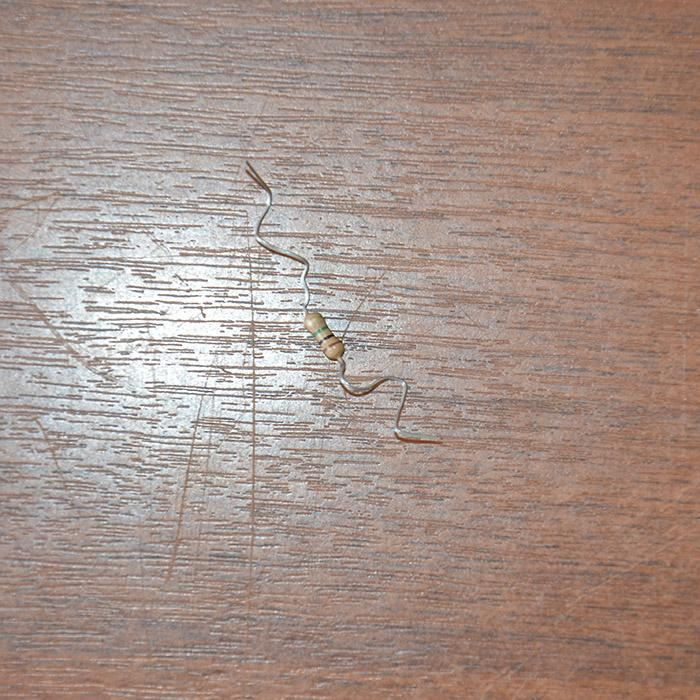resistor: (304, 310, 344, 360)
